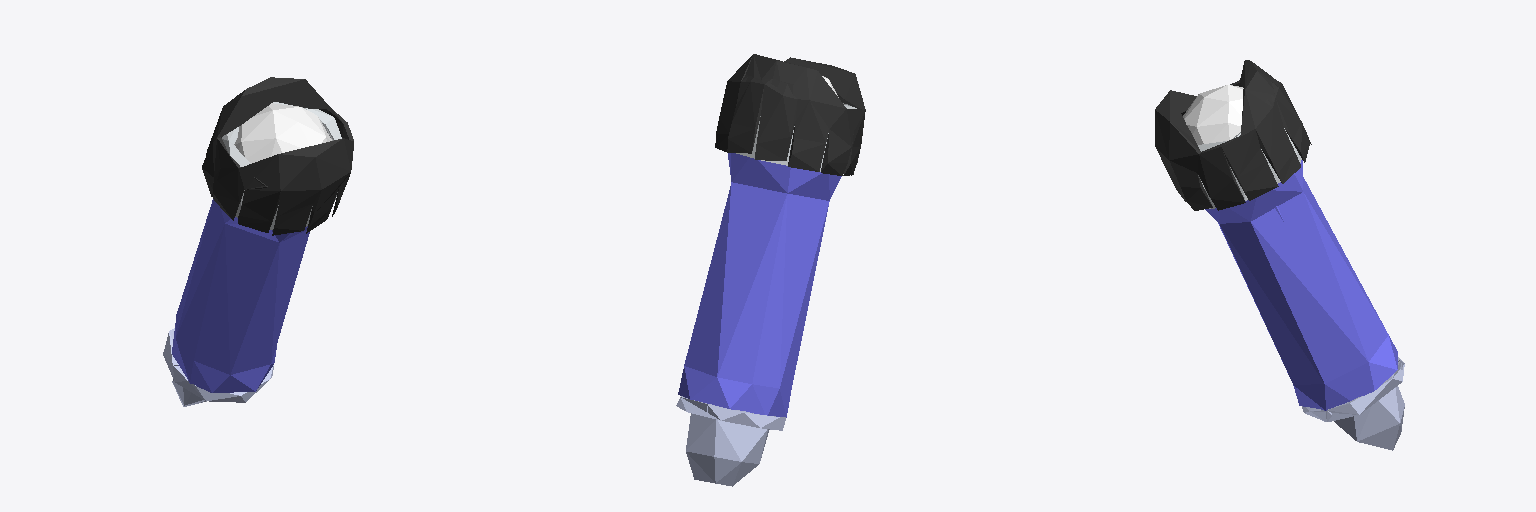
The model's file is bluevolta_light.obj.
The picture shows the model from 3 angles: view 1: azimuth 30°, elevation 25°; view 2: azimuth 150°, elevation 25°; view 3: azimuth 270°, elevation 25°; orthographic projection.
Parts seen in each view (by area): view 1: Blue_Volta-eROV.simplified.V2_OBJ2_11719-9080; view 2: Blue_Volta-eROV.simplified.V2_OBJ2_11719-9080; view 3: Blue_Volta-eROV.simplified.V2_OBJ2_11719-9080.
Boxes of the visible parts, box(x1,y1,x2,y2) form: Blue_Volta-eROV.simplified.V2_OBJ2_11719-9080: box(163, 77, 353, 406); Blue_Volta-eROV.simplified.V2_OBJ2_11719-9080: box(676, 54, 865, 486); Blue_Volta-eROV.simplified.V2_OBJ2_11719-9080: box(1155, 60, 1404, 450).
Bounding box in the file's own units: 0.134 × 0.3793 × 0.2305.